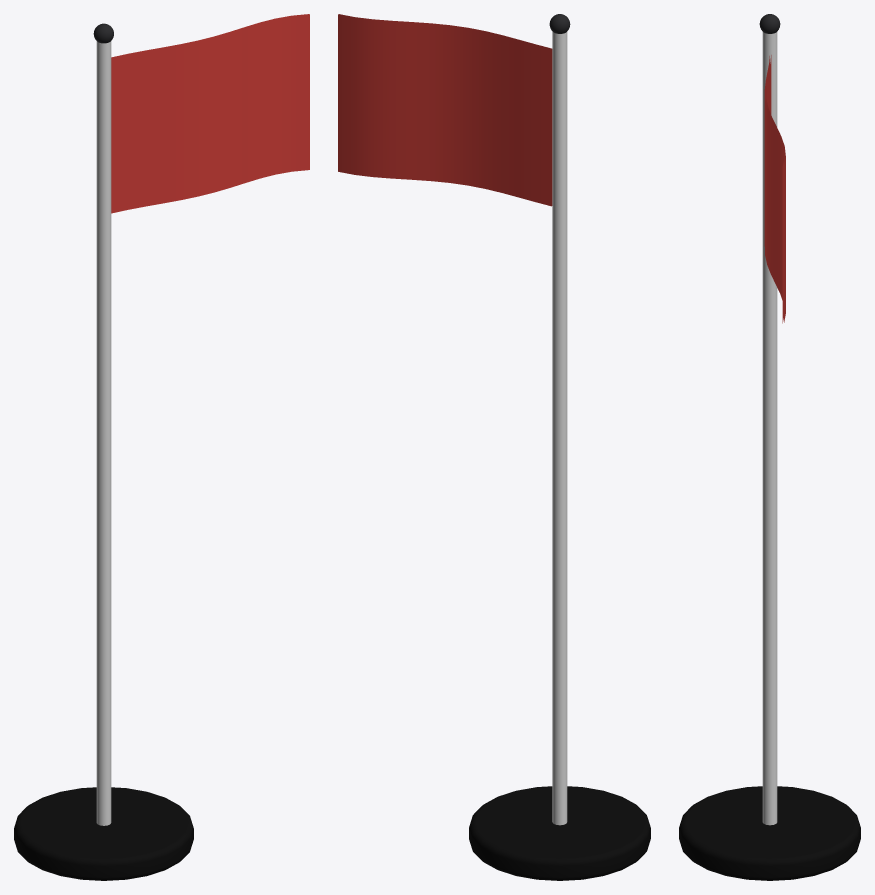
Rendered from sport.circuit.flag_red.glb.
3 renders of one model, left to right at view 1: azimuth 30°, elevation 25°; view 2: azimuth 150°, elevation 25°; view 3: azimuth 270°, elevation 25°, orthographic.
Visible parts, largest first — view 1: main__paint_d43, main__rubber, main__galv_eee; view 2: main__paint_d43, main__rubber, main__galv_eee; view 3: main__rubber, main__galv_eee, main__paint_d43.
Boxes of the visible parts, x1,y1,x2,y2 form: main__paint_d43: [111, 14, 309, 213]; main__rubber: [14, 787, 193, 880]; main__galv_eee: [96, 41, 111, 825]; main__paint_d43: [338, 14, 552, 206]; main__rubber: [469, 786, 650, 880]; main__galv_eee: [552, 31, 567, 825]; main__rubber: [679, 786, 860, 880]; main__galv_eee: [762, 32, 777, 825]; main__paint_d43: [764, 55, 785, 323].
Bounding box in the file's own units: 0.82 × 2.22 × 0.44.
